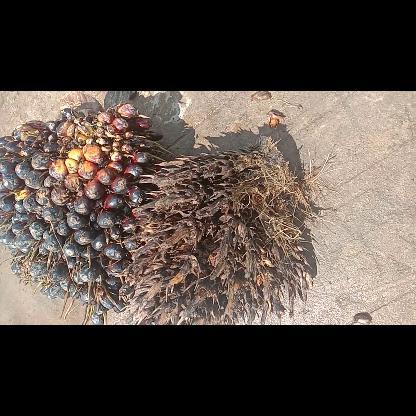Janjang kosong: (117, 136, 310, 324)
TBS mentah: (0, 92, 172, 324)
